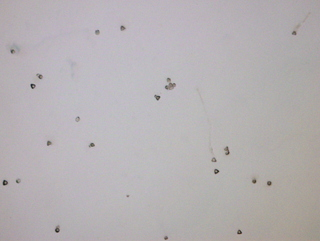germinated: (203, 141, 221, 163), (289, 15, 303, 38)
nongerminated: (70, 112, 83, 126), (90, 25, 105, 37), (116, 22, 129, 34), (233, 225, 245, 237), (85, 139, 98, 150), (264, 176, 275, 188), (248, 175, 260, 186), (13, 175, 25, 186), (53, 223, 65, 234), (161, 73, 174, 83), (211, 166, 222, 177), (151, 92, 162, 102), (43, 138, 54, 148), (27, 80, 37, 91), (8, 47, 19, 57), (37, 72, 47, 83), (161, 231, 171, 241), (0, 178, 10, 187), (223, 149, 232, 157), (162, 85, 170, 94), (173, 80, 182, 88), (222, 145, 231, 151), (168, 85, 175, 92)
